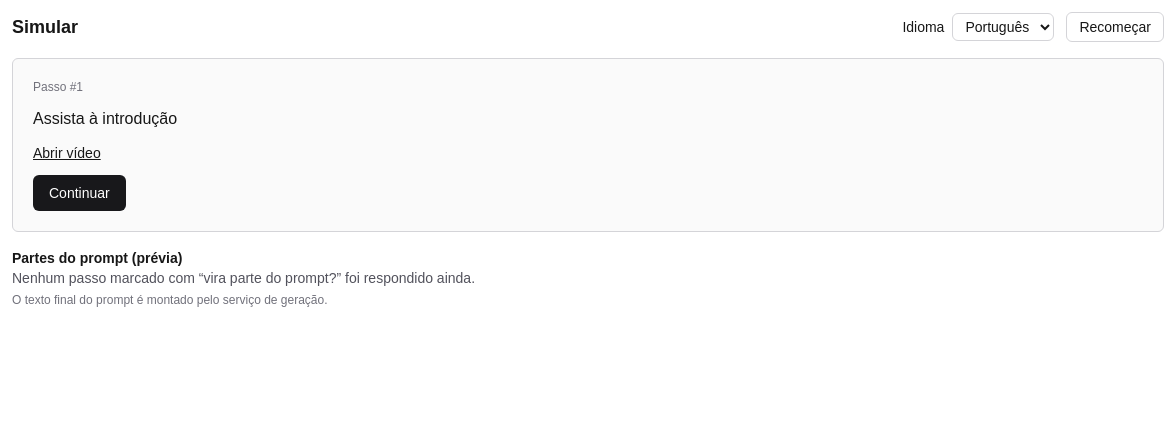
Test: FlowSimulator › follows the order when the option has no jump, and restarts
The width and height of the screenshot is (1176, 432).
Click the button "Continuar".
click(79, 193)  # box [33,175,126,211]
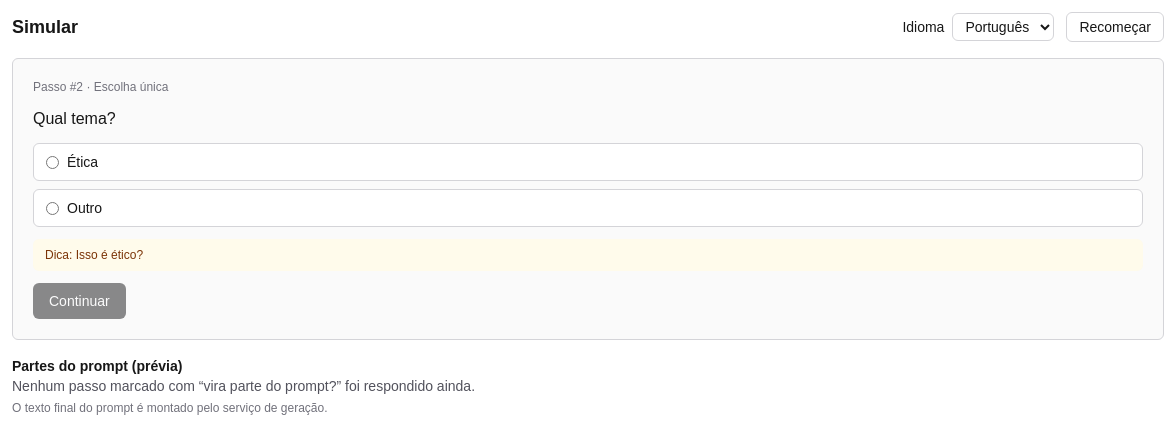
Click the radio button labelled "Outro".
click(52, 208)  # box [46,202,59,214]
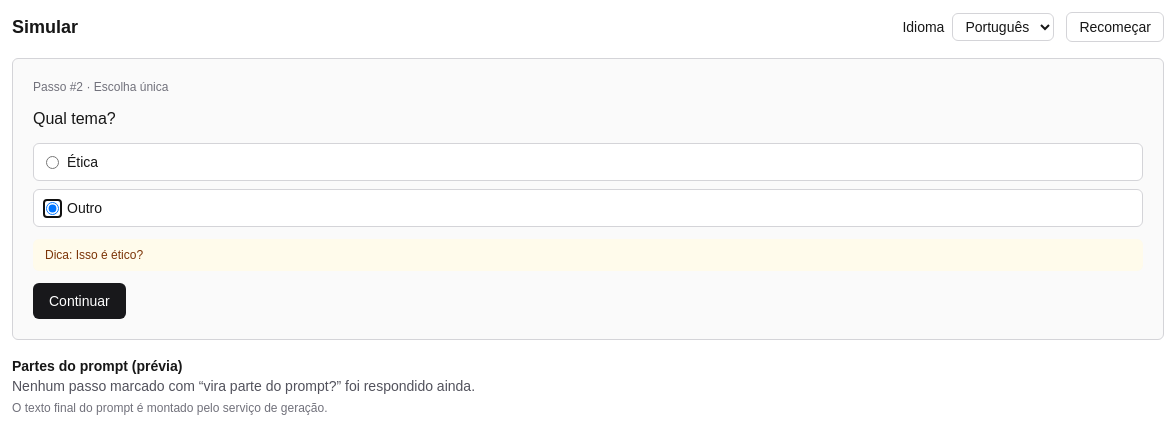
Click the button "Continuar".
click(79, 301)  # box [33,283,126,319]
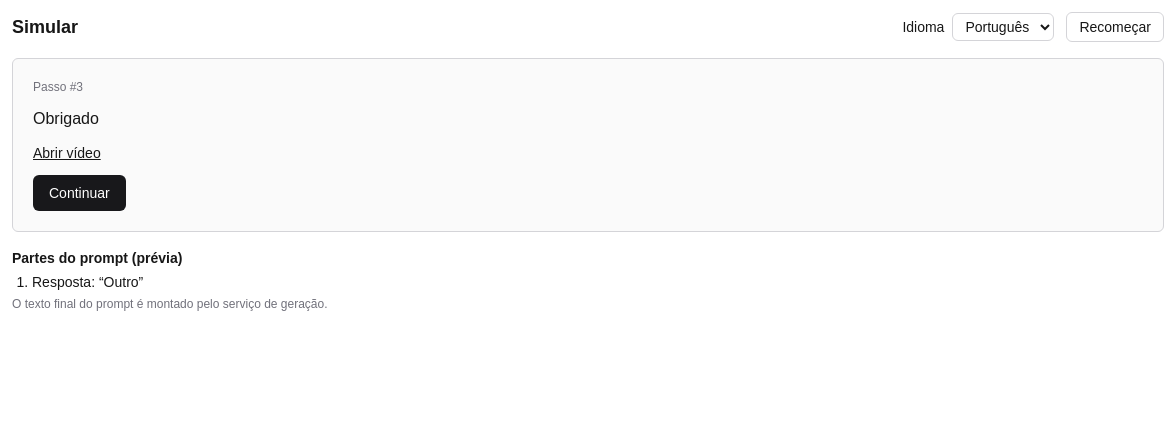
Expected: the text "Obrigado" is shown, [33,110,99,127]
Click the button "Recomeçar".
click(1115, 27)  # box [1066,12,1164,42]
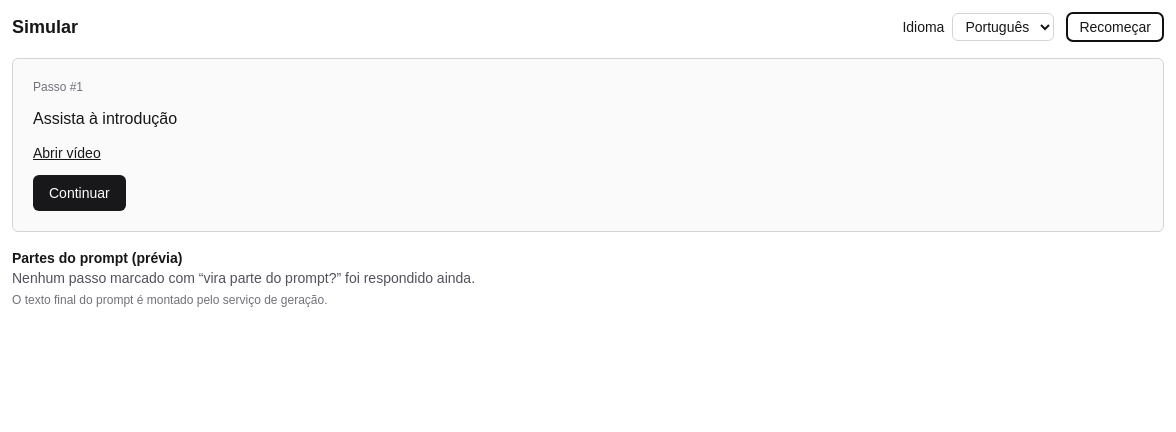
Expected: the text "Assista à introdução" is shown, [33,110,177,127]
